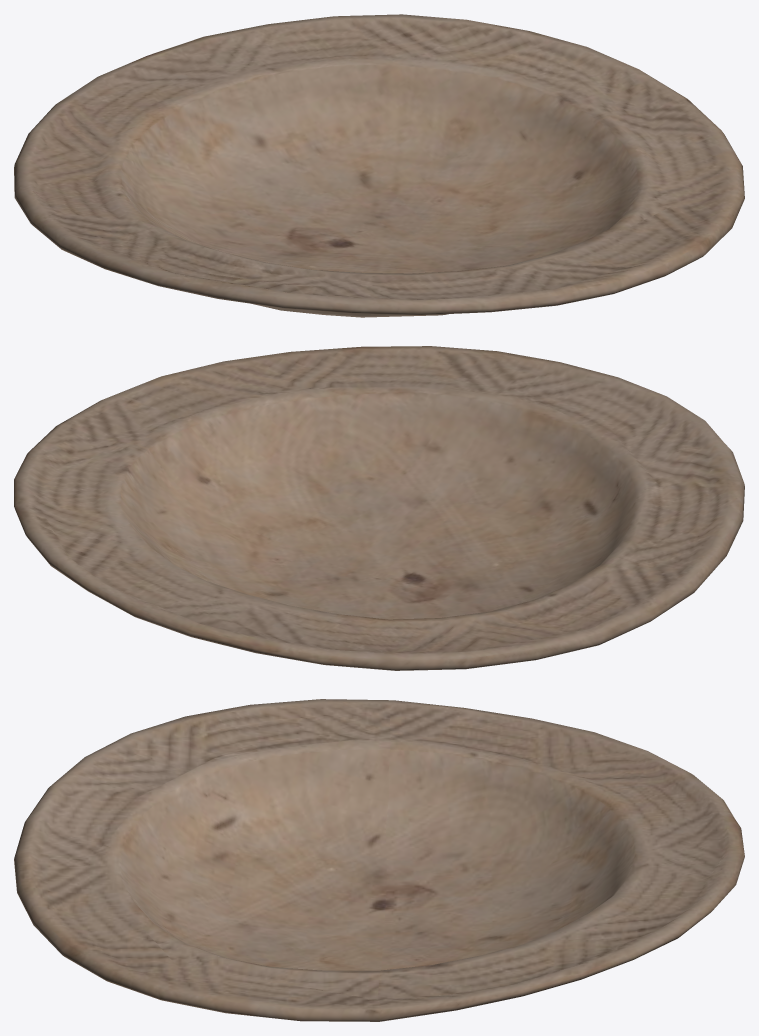
File: carved_wooden_plate.glb
3 renders of one model, top to bottom at view 1: azimuth 30°, elevation 25°; view 2: azimuth 150°, elevation 25°; view 3: azimuth 270°, elevation 25°, orthographic. The views are drawn at different scales.
Parts seen in each view (by area): view 1: carved_wooden_plate; view 2: carved_wooden_plate; view 3: carved_wooden_plate.
Boxes of the visible parts, box(x1,y1,x2,y2) form: carved_wooden_plate: box(14, 14, 744, 317); carved_wooden_plate: box(14, 346, 744, 670); carved_wooden_plate: box(14, 699, 744, 1021).
Size of the model in its own units: 0.2718 by 0.0379 by 0.2688.
Materials: 1 (1 with a texture image).
